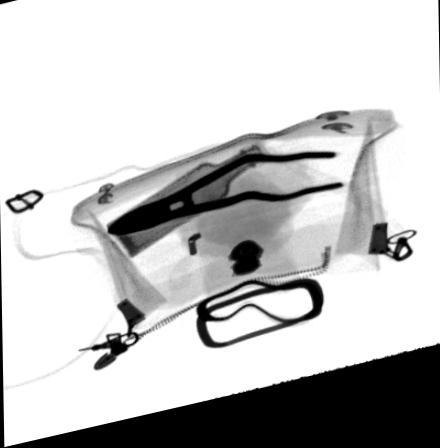Pliers: (105, 164, 344, 241)
